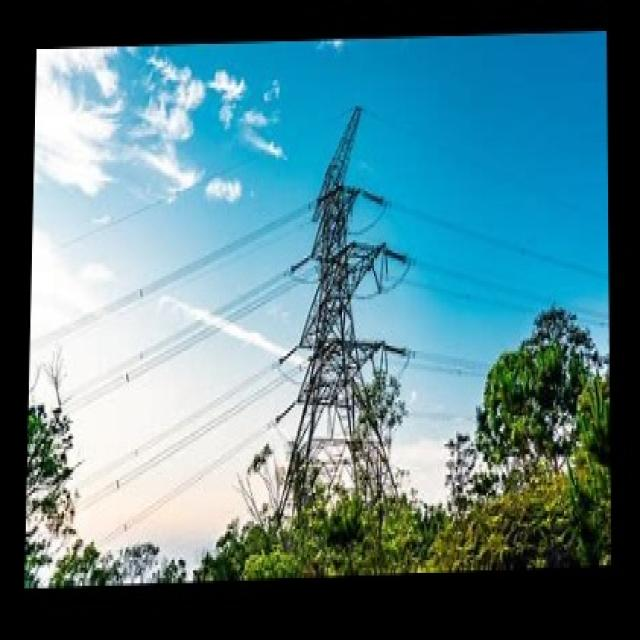utility poles: (461, 269, 575, 444), (326, 362, 417, 486)
